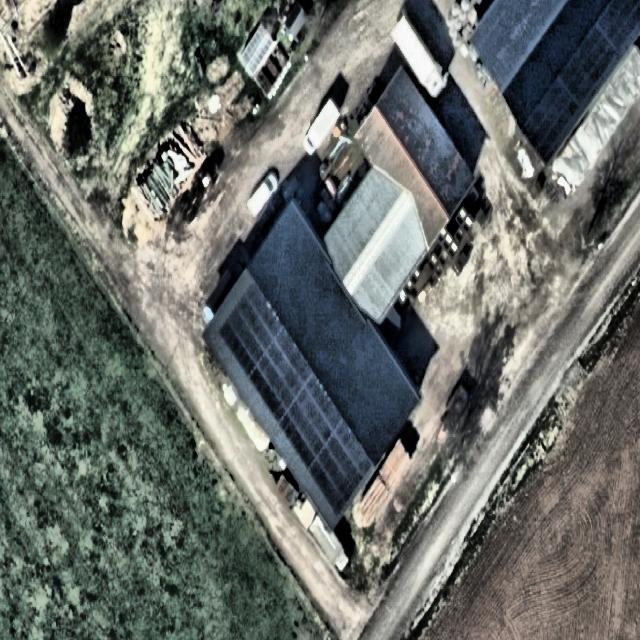roof_pv: (218, 282, 318, 380), (285, 438, 373, 510), (257, 379, 360, 438)
